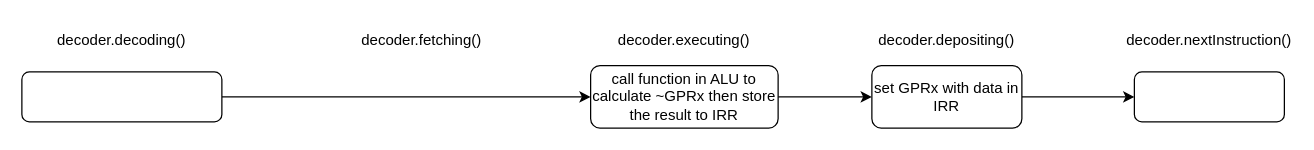
Some shapes in this 1314 by 150 pixel diagram are drawn without their labels. The shapes that lost their labels are listed below. From the top down, each one's centre as x and y in pixels, then its label:
At pixel 121 96: "decode the instruction and opcode = 21".
At pixel 1208 96: "set pc = pc + 1".
